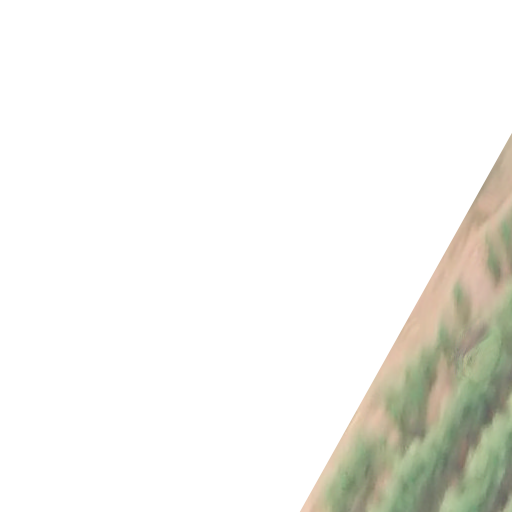eucalipto: (439, 389, 487, 426), (405, 443, 450, 480), (389, 471, 435, 507), (468, 447, 508, 482), (425, 421, 459, 456)
